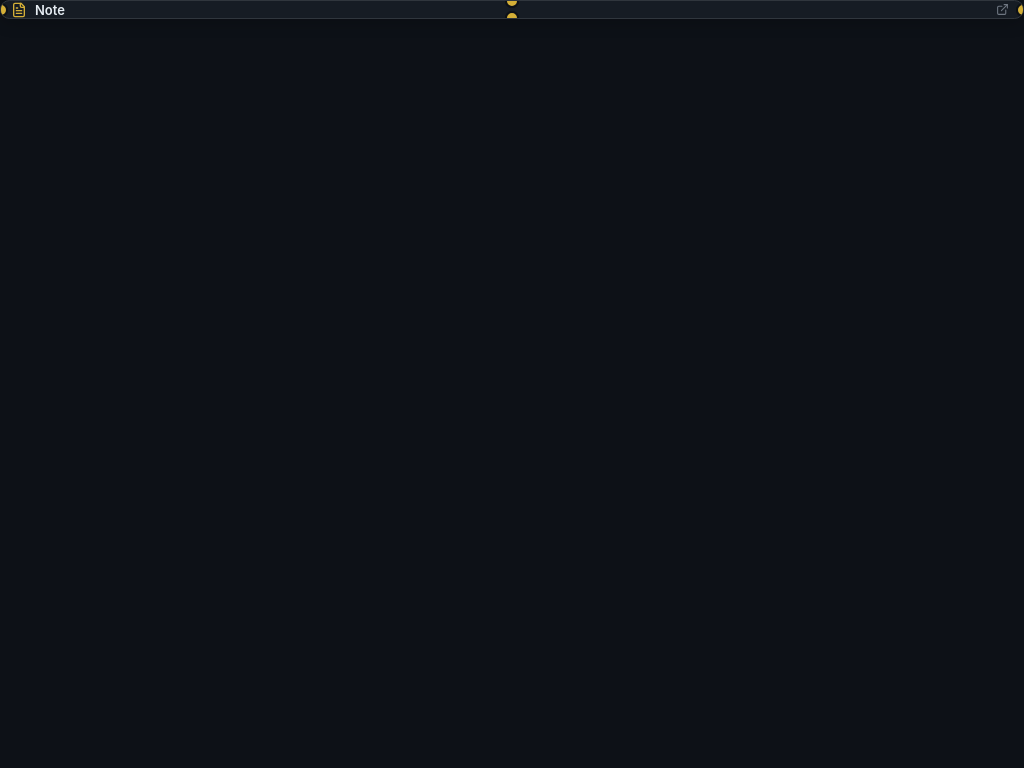
Canvas Compact/Preview File Nodes, Toolbar, Companion Tree & External Links › 1. CanvasFileNode renders compact card for .md and .pdf without fetching Markdown preview
Later steps or results of the test are not shown.
expect the element with class "is-compact-card" is shown: met, box [0, 0, 1023, 19]
expect the text with class "canvas-file-compact-title" reads "Note": met, box [35, 2, 65, 18]
What coordinates should you click on to do the following:
click the button with class "canvas-file-open-btn"
I would click on:
 (1002, 10)
Its box is [992, 1, 1013, 18].
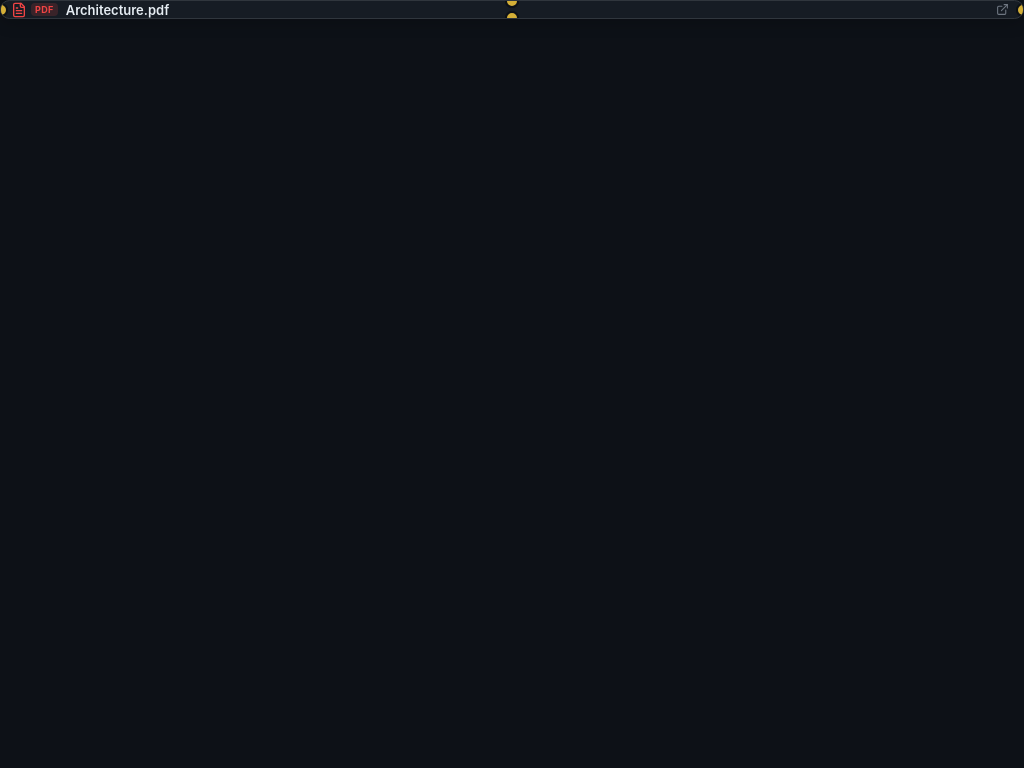
expect the element with class "is-compact-card" is shown: met, box [0, 0, 1023, 19]
expect the text with class "canvas-file-compact-title" reads "Architecture.pdf": met, box [66, 2, 169, 18]
expect the text with class "canvas-file-pdf-badge" reads "PDF": met, box [35, 4, 54, 15]
